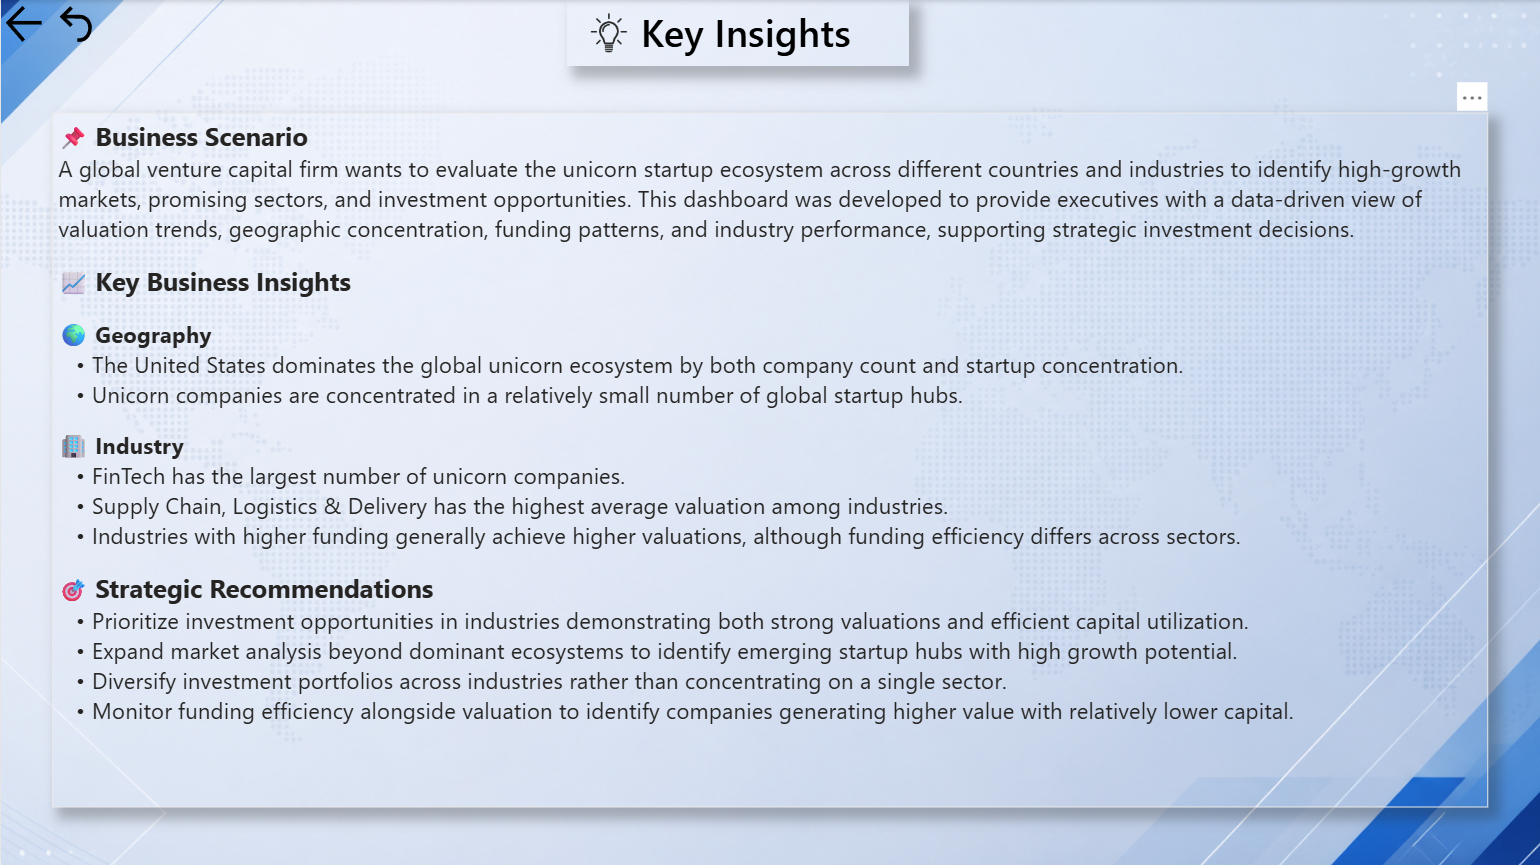

What the dashboard file says about the page in this screenshot:
{"tool":"powerbi","page":{"name":"Key Insights","canvas":[1280,720],"ordinal":3},"visuals":[{"type":"shape","box":[470.7,0,284,54.9],"z":0},{"type":"textbox","box":[526.9,0,197.6,54.9],"z":1000},{"type":"actionButton","box":[0,0,49.4,39.8],"z":2000},{"type":"textbox","box":[42.5,93.3,1193.8,577.7],"z":3000},{"type":"image","box":[470.7,0,68.6,54.9],"z":4000},{"type":"actionButton","box":[42.5,0,52.1,39.8],"z":5000}]}

Visuals, with their boxes on the page's 1280x720 design canvas (x1, y1, x2, y2). These are canvas units, not pixel positions in the 1540x865 screenshot, which may show the page scaled, cropped or inside an application window:
shape: (471,0,755,55)
textbox: (527,0,724,55)
actionButton: (0,0,49,40)
textbox: (42,93,1236,671)
image: (471,0,539,55)
actionButton: (42,0,95,40)
